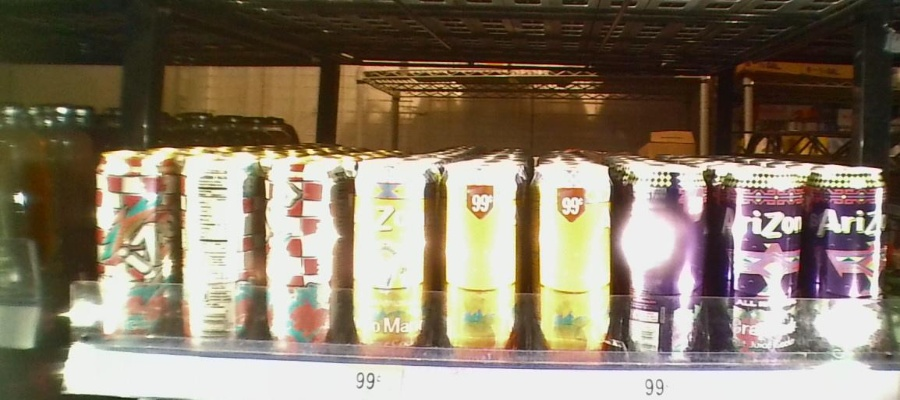bottle: (617, 147, 707, 367), (713, 151, 807, 356), (523, 151, 614, 355), (178, 136, 262, 353), (433, 152, 521, 359), (265, 142, 346, 358), (349, 148, 428, 359), (808, 149, 885, 361), (94, 144, 175, 343)
